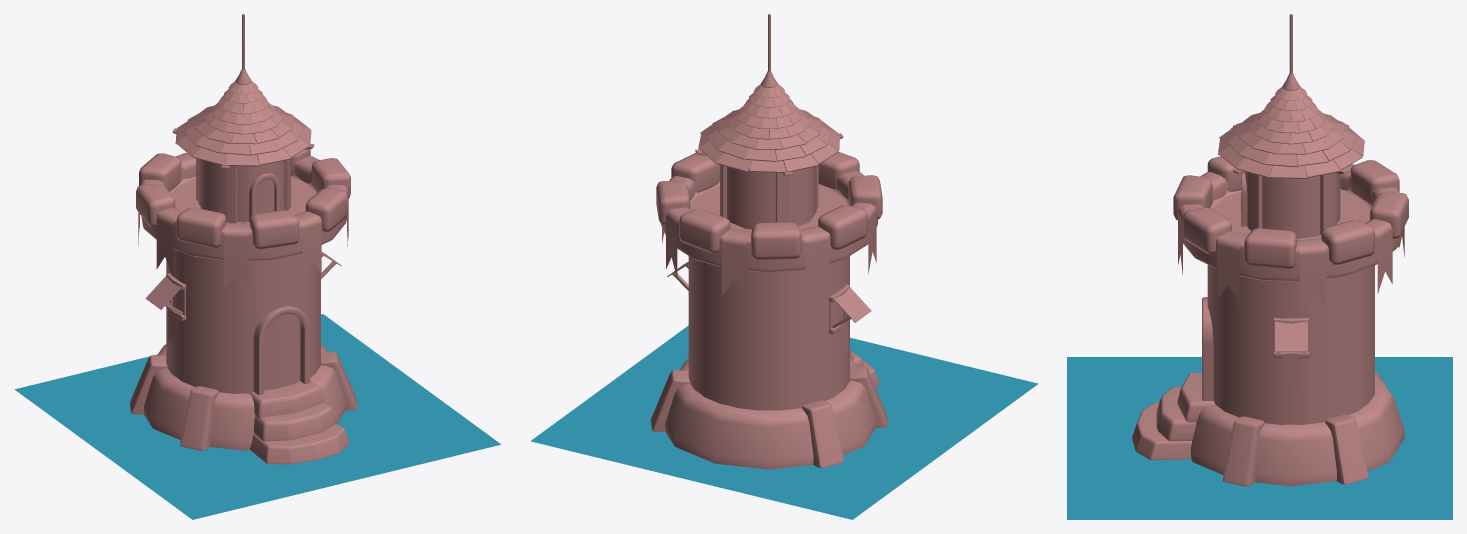
File: Tower1.fbx
The picture shows the model from 3 angles, left to right: view 1: azimuth 30°, elevation 25°; view 2: azimuth 150°, elevation 25°; view 3: azimuth 270°, elevation 25°; orthographic projection. The views are drawn at different scales.
Parts seen in each view (by area): view 1: b23_low, b2_low, b1_low, b3_low, l2_low, b4_low, b4_low3, b12_low1, b11_low, b10_low, b7_low, b9_low (+9 smaller); view 2: b23_low, b2_low, b1_low, l2_low, b3_low, b4_low2, b12_low1, b4_low3, b4_low1, b5_low4, b5_low5, b12_low (+5 smaller); view 3: b23_low, b2_low, b1_low, b3_low, l2_low, b12_low, b4_low1, b4_low, b4_low2, b11_low, b5_low2, b5_low1 (+9 smaller).
Boxes of the visible parts, box(x1,y1,x2,y2) form: b23_low: box(14, 314, 501, 519); b2_low: box(166, 249, 320, 393); b1_low: box(144, 344, 345, 450); b3_low: box(141, 161, 346, 261); l2_low: box(198, 159, 284, 222); b4_low: box(249, 188, 347, 249); b4_low3: box(136, 183, 226, 247); b12_low1: box(130, 355, 218, 450); b11_low: box(250, 424, 349, 464); b10_low: box(253, 402, 335, 441); b7_low: box(253, 306, 310, 395); b9_low: box(250, 381, 323, 418); b23_low: box(530, 325, 1038, 519); b2_low: box(688, 256, 849, 410); b1_low: box(665, 359, 875, 469); l2_low: box(727, 166, 816, 229); b3_low: box(661, 175, 877, 272); b4_low2: box(679, 209, 801, 259); b12_low1: box(802, 366, 887, 468); b4_low3: box(818, 175, 882, 249); b4_low1: box(656, 153, 719, 225); b5_low4: box(722, 229, 751, 299); b5_low5: box(799, 226, 829, 297); b12_low: box(651, 370, 689, 431); b23_low: box(1067, 357, 1452, 519); b2_low: box(1207, 265, 1374, 424); b1_low: box(1190, 371, 1404, 486); b3_low: box(1183, 174, 1401, 281); l2_low: box(1245, 172, 1340, 238); b12_low: box(1223, 414, 1368, 486); b4_low1: box(1244, 220, 1374, 268); b4_low: box(1173, 175, 1231, 254); b4_low2: box(1350, 160, 1408, 238); b11_low: box(1132, 402, 1191, 460); b5_low2: box(1297, 238, 1326, 310); b5_low1: box(1217, 231, 1247, 305).
Bounding box in the file's own units: 1415 × 1735 × 1415.
